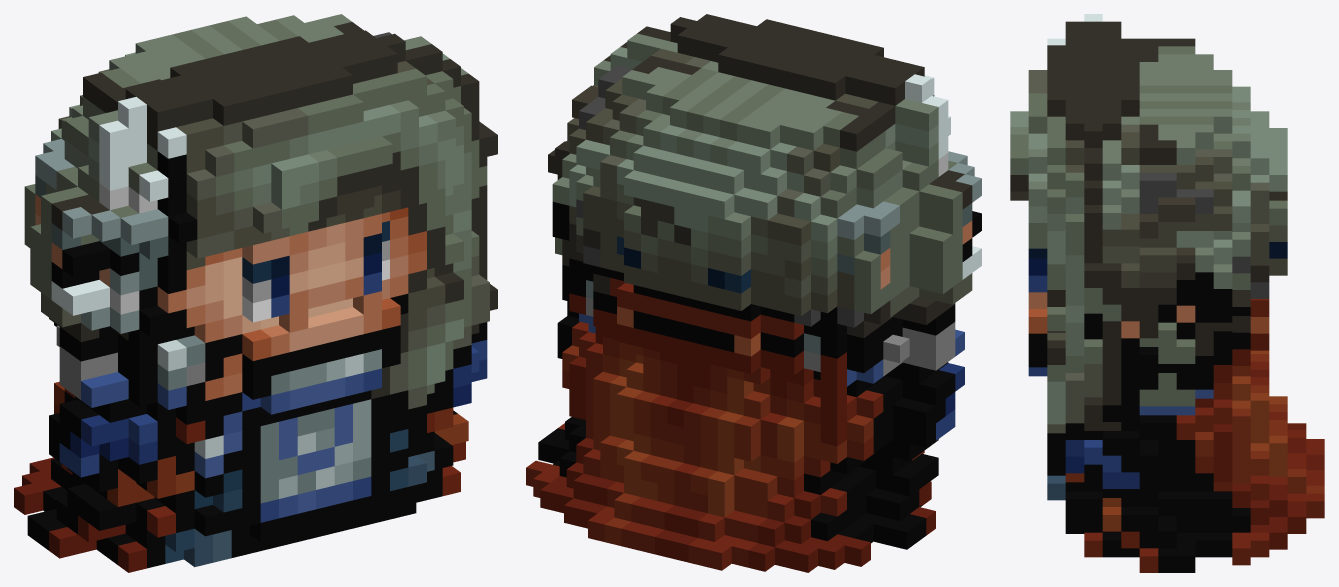
Rendered from Icon_111_03.obj.
The picture shows the model from 3 angles, left to right: view 1: azimuth 30°, elevation 25°; view 2: azimuth 150°, elevation 25°; view 3: azimuth 270°, elevation 25°; orthographic projection. The views are drawn at different scales.
Size of the model in its own units: 2.3 by 2.4 by 1.7.
